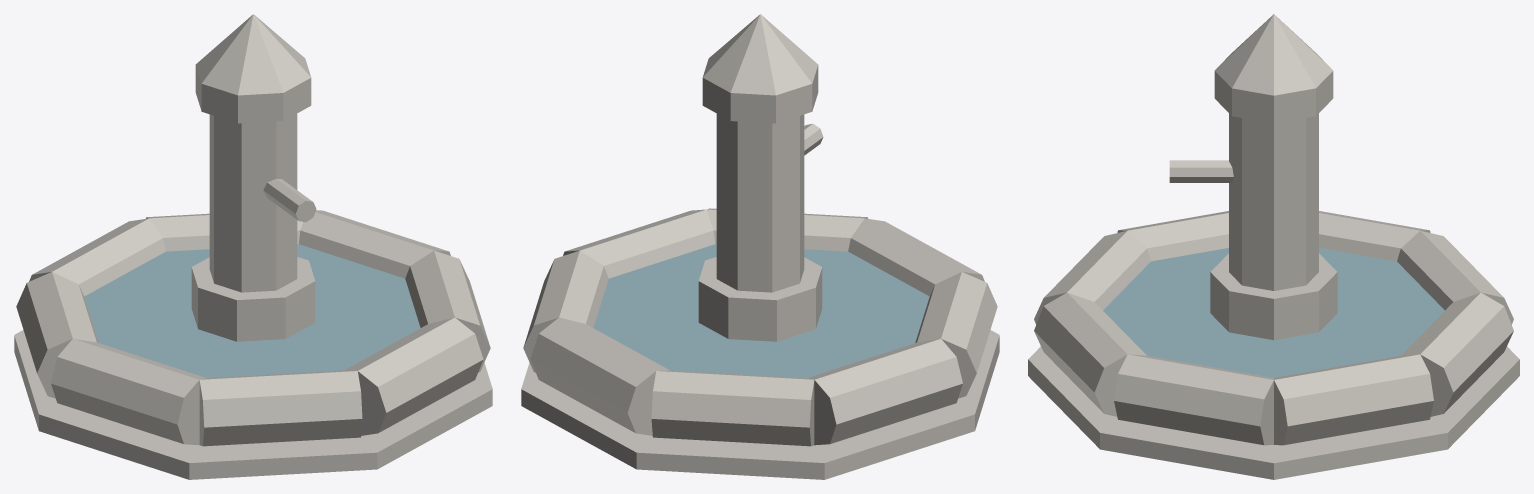
The model's file is fountain.glb.
3 renders of one model, left to right at view 1: azimuth 30°, elevation 25°; view 2: azimuth 150°, elevation 25°; view 3: azimuth 270°, elevation 25°, orthographic.
Parts seen in each view (by area): view 1: fountain_stone, fountain_water; view 2: fountain_stone, fountain_water; view 3: fountain_stone, fountain_water.
Boxes of the visible parts, bbox=[...] form: fountain_stone: bbox=[14, 14, 492, 479]; fountain_water: bbox=[84, 244, 420, 377]; fountain_stone: bbox=[521, 14, 999, 479]; fountain_water: bbox=[593, 244, 929, 377]; fountain_stone: bbox=[1028, 14, 1519, 479]; fountain_water: bbox=[1103, 248, 1444, 377].
Bounding box in the file's own units: 0.8 × 0.65 × 0.8.
